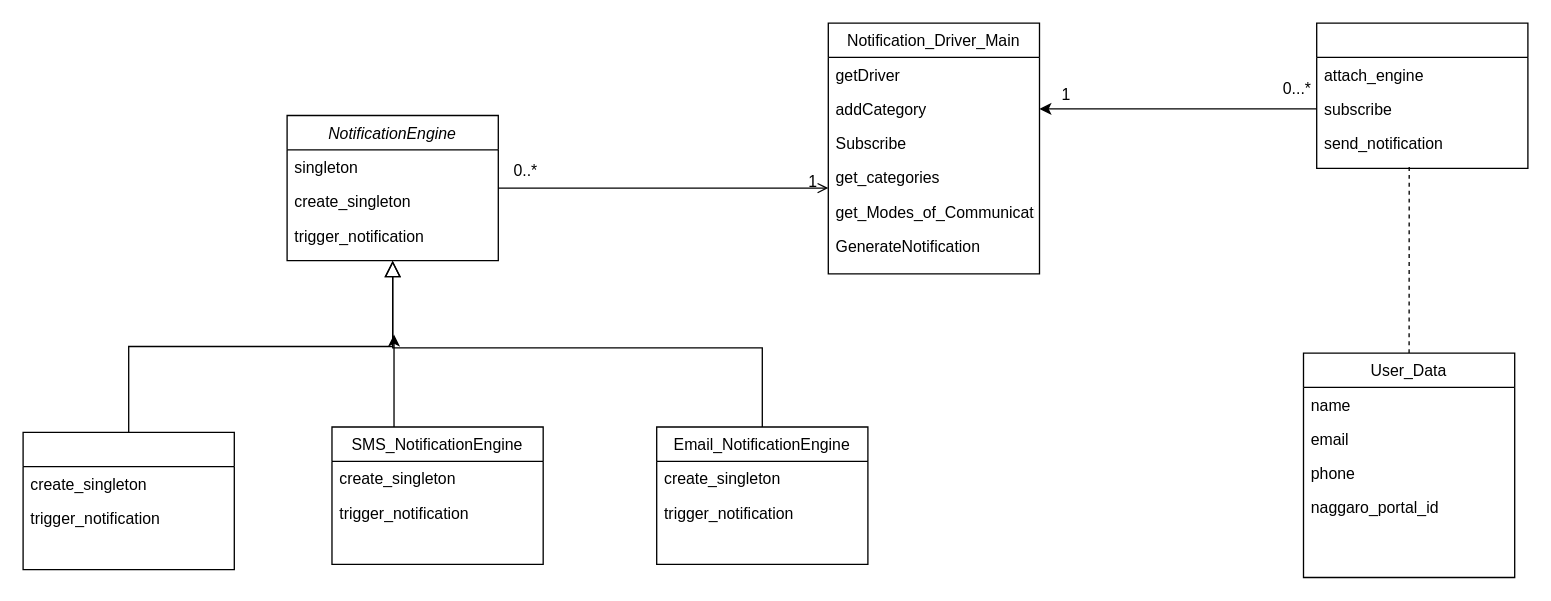
This 1551x601 diagram has some shape labels left out. Each missing label, with the box of its shape:
NotificationCategory: (1315, 22, 1528, 168)
Portal_NotificationEngine: (22, 431, 234, 570)
